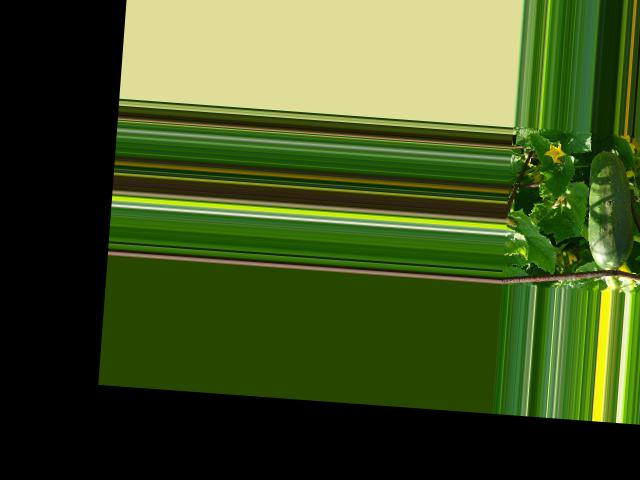cucumber: (583, 149, 640, 271)
